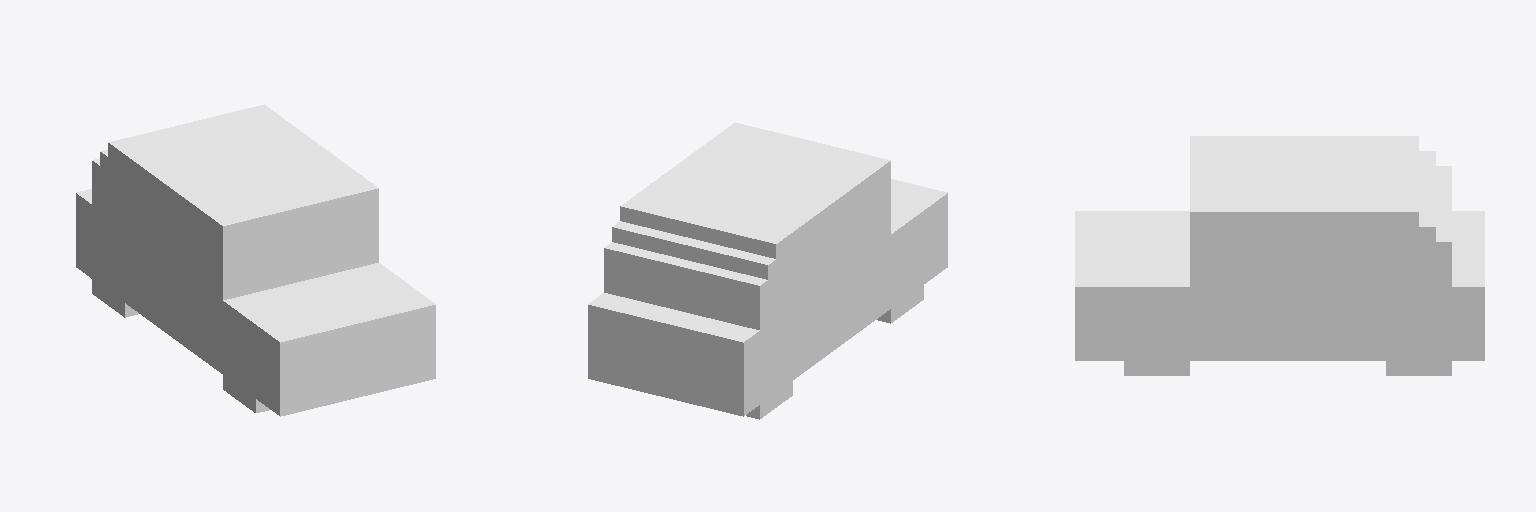
Rendered from Car1.obj.
3 views of the same model, side by side, from view 1: azimuth 30°, elevation 25°; view 2: azimuth 150°, elevation 25°; view 3: azimuth 270°, elevation 25° (orthographic).
Size of the model in its own units: 11 by 11 by 25.